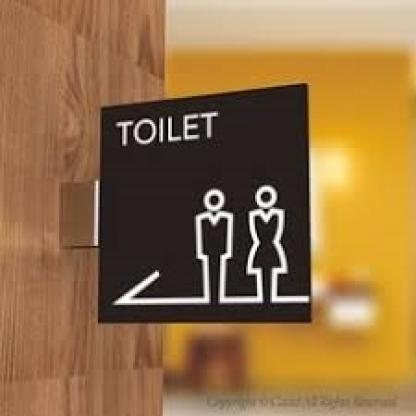toilet: (189, 179, 297, 313)
